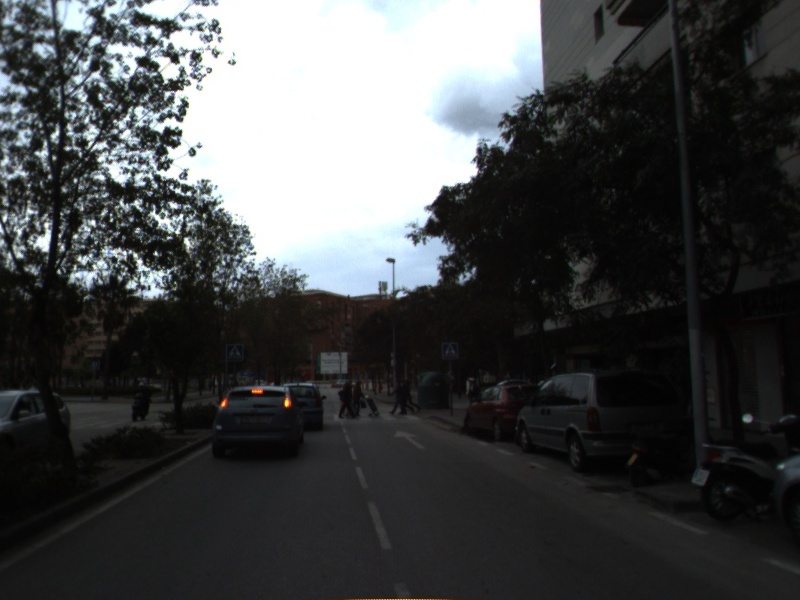STRAIGHT: (391, 428, 431, 452)
